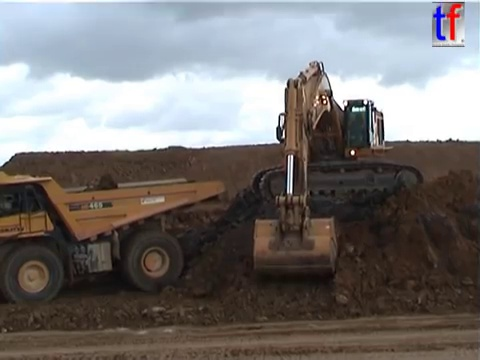excavator: (246, 58, 426, 280)
truck: (1, 166, 228, 307)
